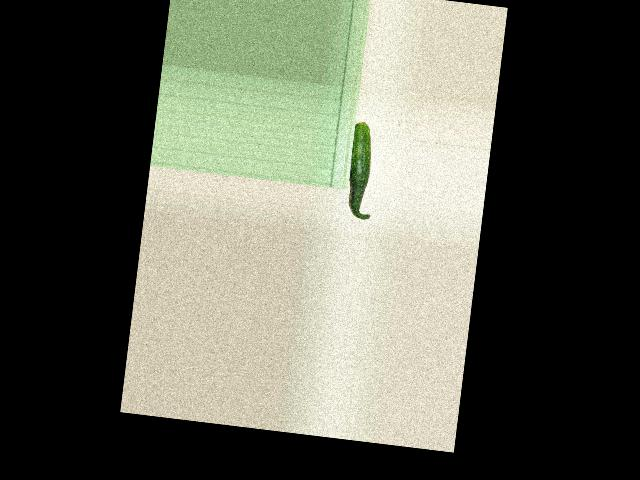cucumber: (343, 121, 380, 220)
